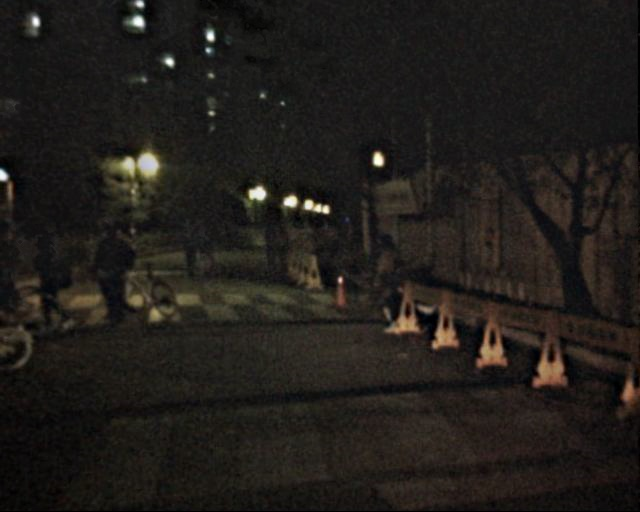person: (1, 219, 43, 331), (37, 222, 80, 326), (366, 232, 408, 335), (97, 219, 139, 321), (174, 216, 199, 277), (192, 216, 217, 277), (257, 222, 276, 269), (270, 224, 288, 267)
